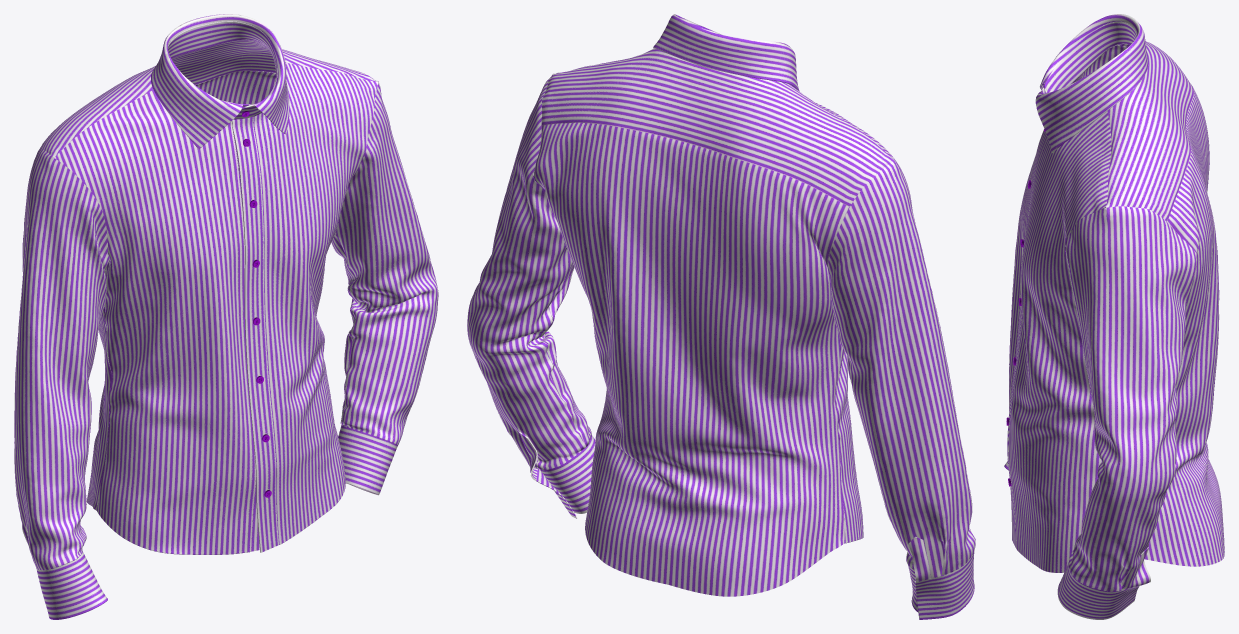
File: camicia-semplice.glb
3 renders of one model, left to right at view 1: azimuth 30°, elevation 25°; view 2: azimuth 150°, elevation 25°; view 3: azimuth 270°, elevation 25°, orthographic. The views are drawn at different scales.
Visible parts, largest first — view 1: Back1, CuffL-1; view 2: Back1, CuffL-1; view 3: Back1, CuffL-1.
Part boxes in pixels (box(x1,y1,x2,y2)): Back1: box(14, 14, 438, 570); CuffL-1: box(36, 425, 397, 619); Back1: box(467, 14, 975, 596); CuffL-1: box(536, 435, 974, 619); Back1: box(1007, 14, 1224, 591); CuffL-1: box(1004, 461, 1139, 619).
Size of the model in its own units: 6.42 by 7.49 by 2.71.
Materials: 4 (2 with a texture image).
